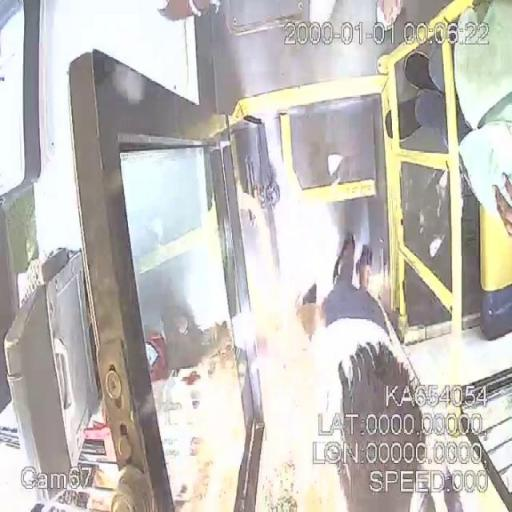persona: (309, 233, 435, 510)
